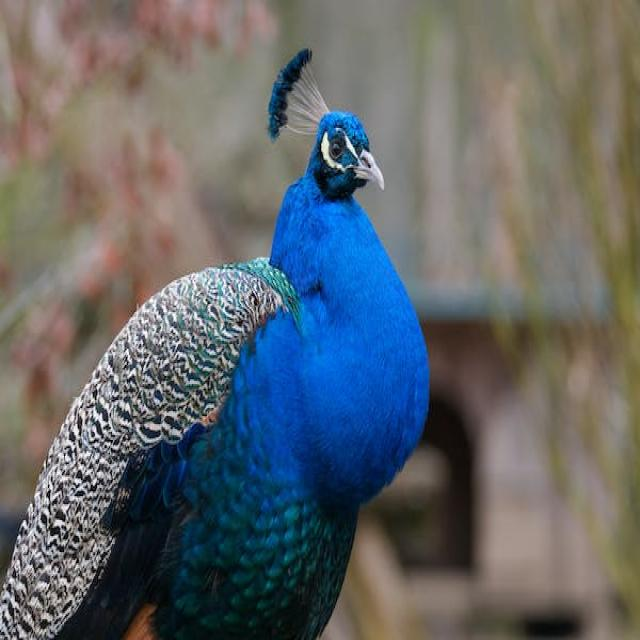peacock: (0, 45, 433, 640)
